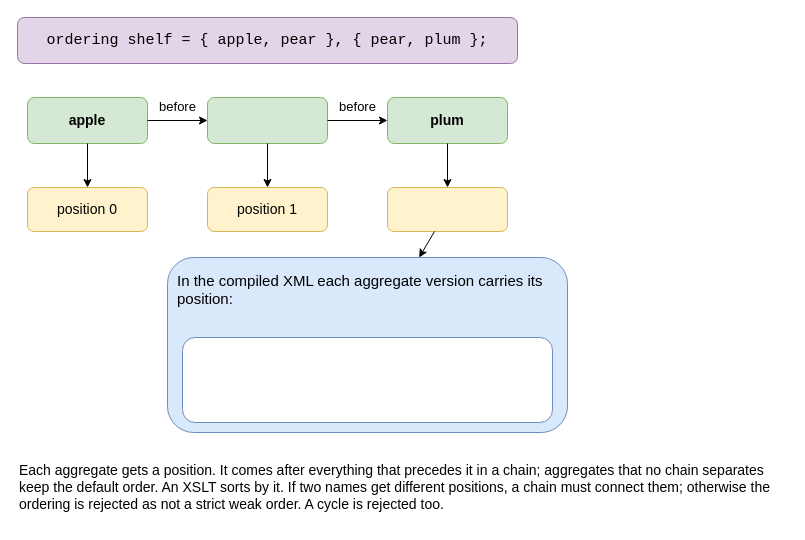
This 805x540 diagram has some shape labels left out. The shapes that lost their labels are listed below. From the top down, each one's centre as x and y in pixels, then its label:
point (267, 120): pear
point (447, 209): position 2
point (367, 379): <orderings> <ordering name="shelf" index="1"/> </orderings>
